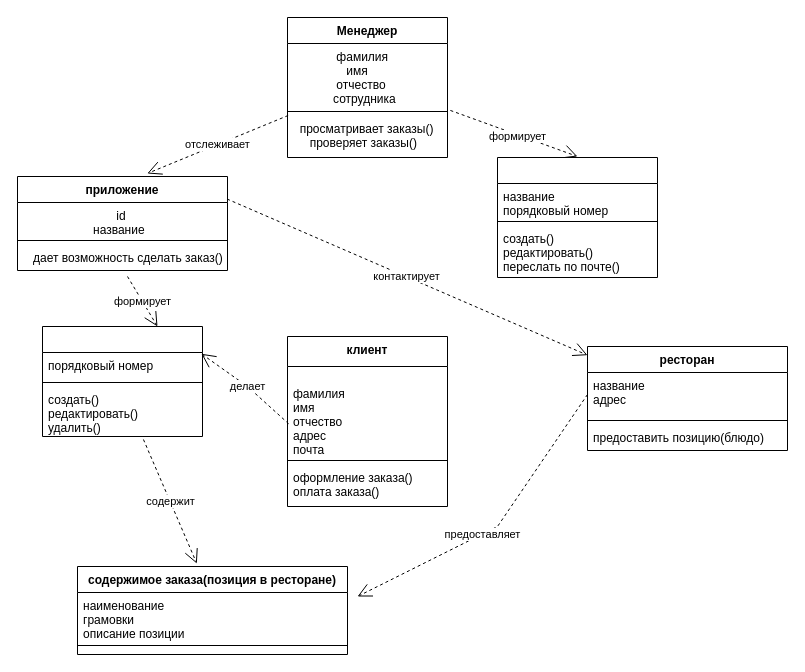
Image size: 805x672. Some labels were removed from this diagram. Here are the shapes that lost their labels. From the top down, the box of each, then its label:
(496, 156, 658, 278): отчет
(42, 326, 202, 436): заказ
